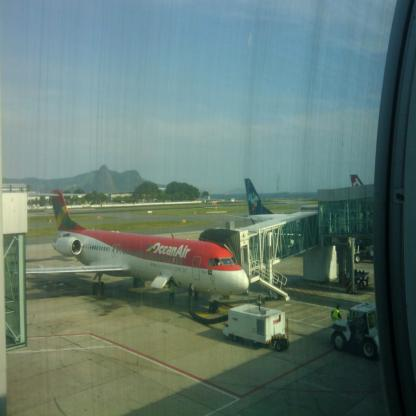Truck: (330, 301, 382, 363)
